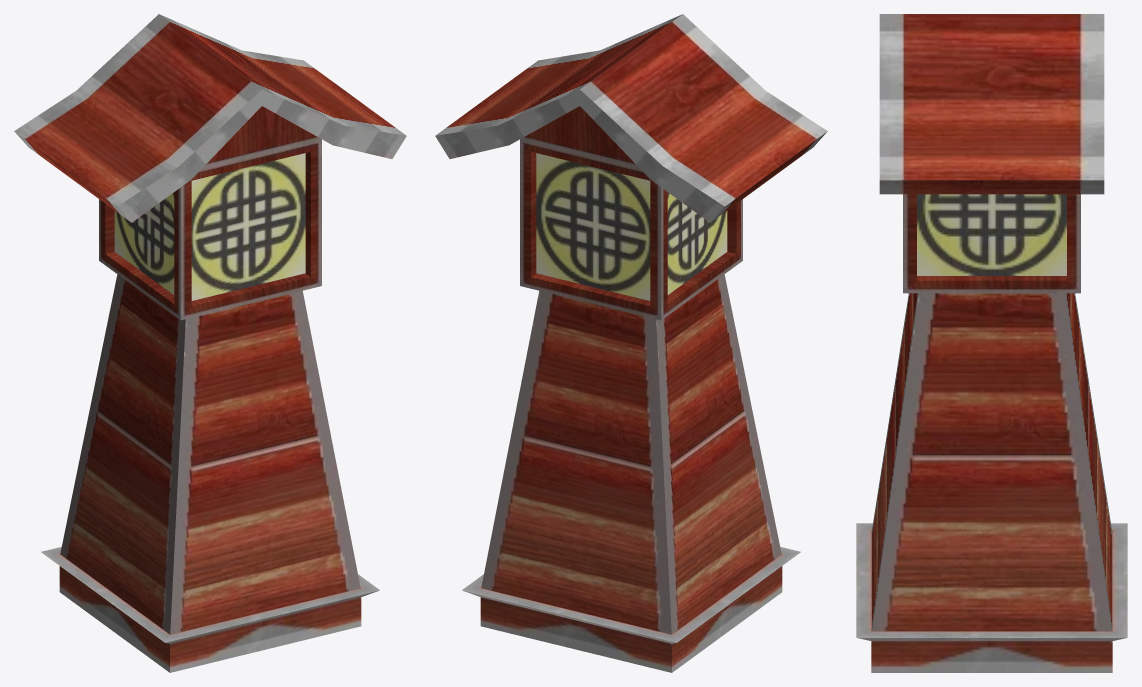
File: pm-shrine.glb
3 renders of one model, left to right at view 1: azimuth 30°, elevation 25°; view 2: azimuth 150°, elevation 25°; view 3: azimuth 270°, elevation 25°, orthographic. The views are drawn at different scales.
Visible parts, largest first — view 1: Shrine_Art; view 2: Shrine_Art; view 3: Shrine_Art.
Part boxes in pixels (left/top/right/bottom): Shrine_Art: left=14, top=14, right=406, bottom=672; Shrine_Art: left=435, top=14, right=827, bottom=672; Shrine_Art: left=856, top=14, right=1127, bottom=672.
Bounding box in the file's own units: 1.94 × 3.56 × 1.44.
1 material, 1 textured.
